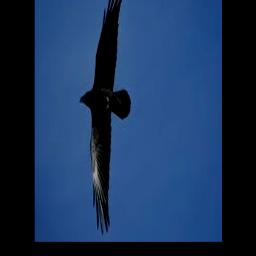Crow: (79, 0, 131, 233)
